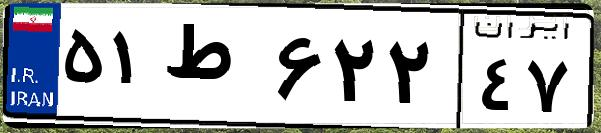1: (110, 28, 158, 98)
2: (385, 28, 445, 110), (330, 28, 385, 110)
4: (475, 38, 525, 113)
5: (57, 26, 110, 100)
6: (270, 28, 330, 110)
7: (525, 38, 570, 115)
ط: (158, 20, 270, 120)
